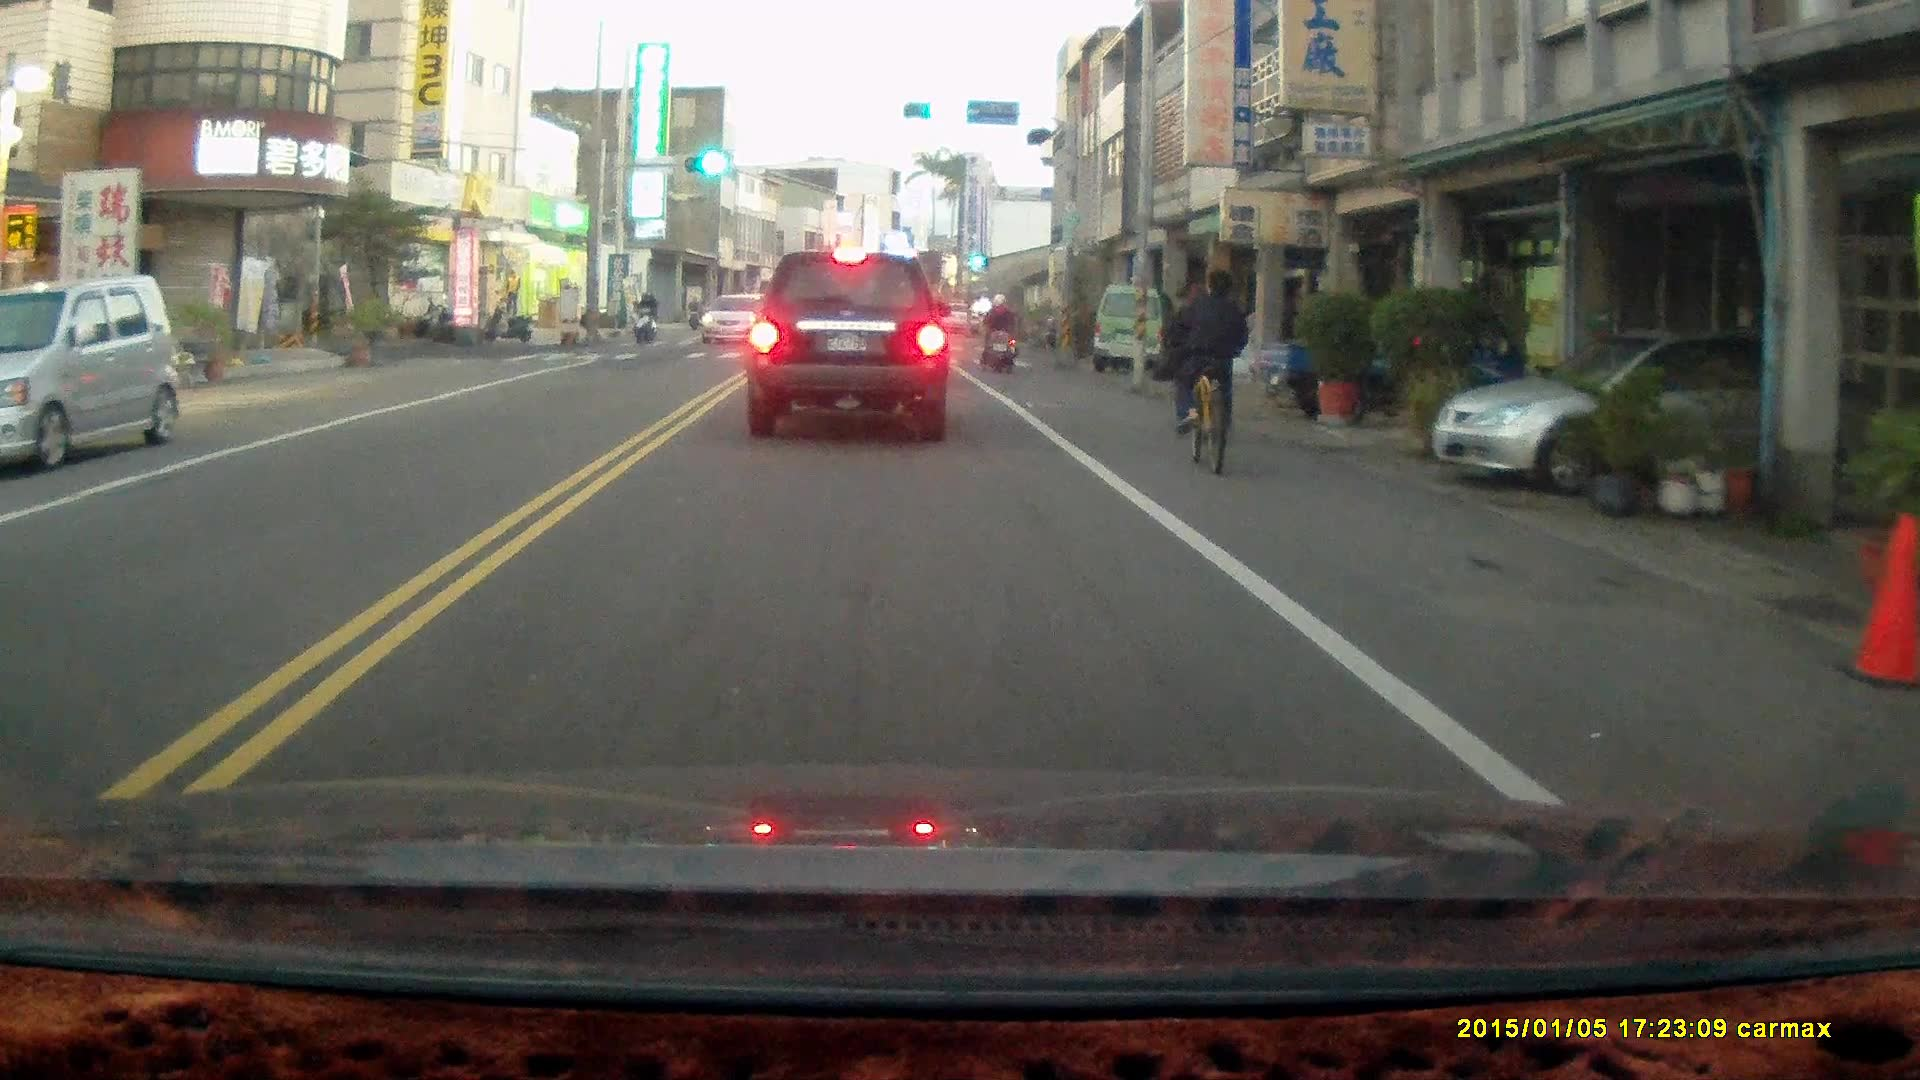pedestrian: (502, 266, 522, 316)
rider: (1180, 263, 1252, 470), (1161, 280, 1222, 442), (976, 289, 1020, 370), (630, 288, 658, 341)
vehicle: (1431, 324, 1859, 493), (743, 248, 956, 446), (1, 272, 184, 477), (1098, 281, 1185, 366)
